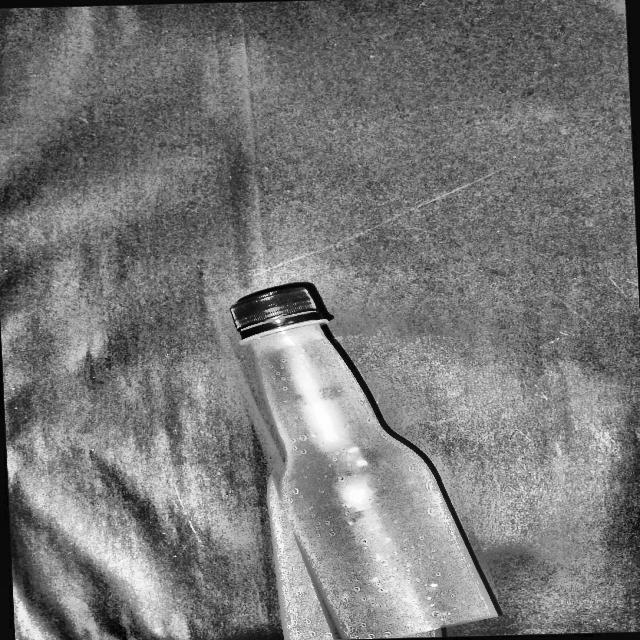Plastic-Bottle: (230, 263, 478, 640)
